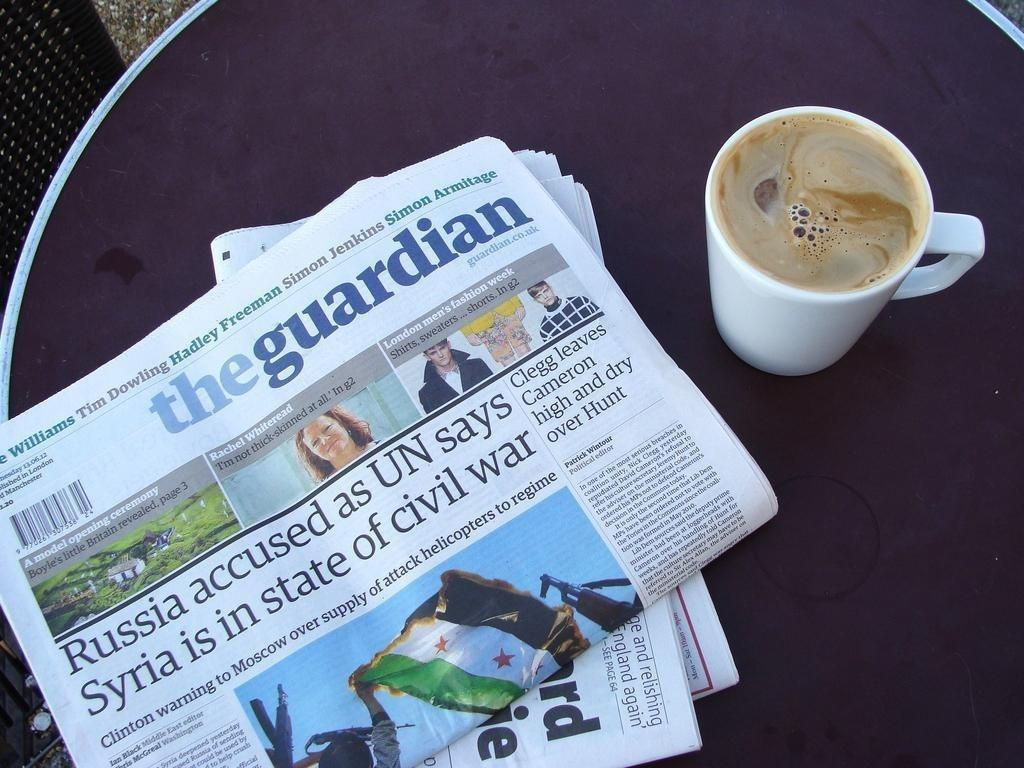cup-handle: (702, 105, 989, 380)
